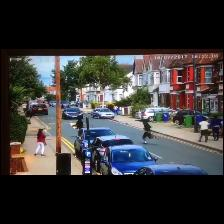person: (143, 121, 158, 143), (35, 129, 46, 155), (210, 116, 221, 140), (199, 118, 208, 142), (22, 102, 26, 112), (114, 106, 119, 114)
